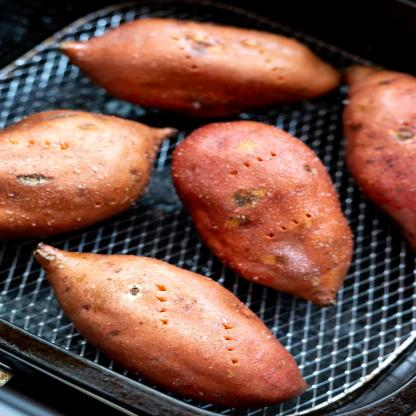---: (19, 240, 328, 416), (170, 120, 360, 329), (24, 8, 320, 114), (341, 61, 416, 258)
